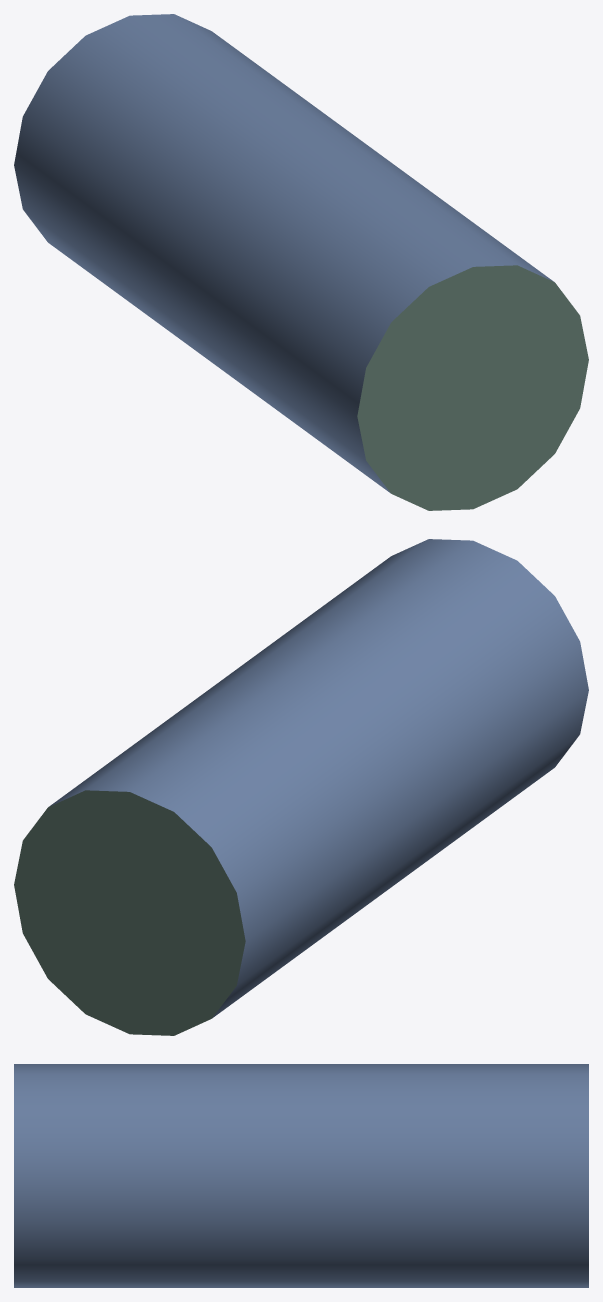
Rendered from icub_neck_1.dae.
3 renders of one model, top to bottom at view 1: azimuth 30°, elevation 25°; view 2: azimuth 150°, elevation 25°; view 3: azimuth 270°, elevation 25°, orthographic. The views are drawn at different scales.
Visible parts, largest first — view 1: neck_1_mesh; view 2: neck_1_mesh; view 3: neck_1_mesh.
Part boxes in pixels (box(x1,y1,x2,y2)): neck_1_mesh: box(14, 14, 588, 510); neck_1_mesh: box(14, 539, 588, 1035); neck_1_mesh: box(14, 1064, 588, 1287).
Size of the model in its own units: 0.03 by 0.03 by 0.077.
